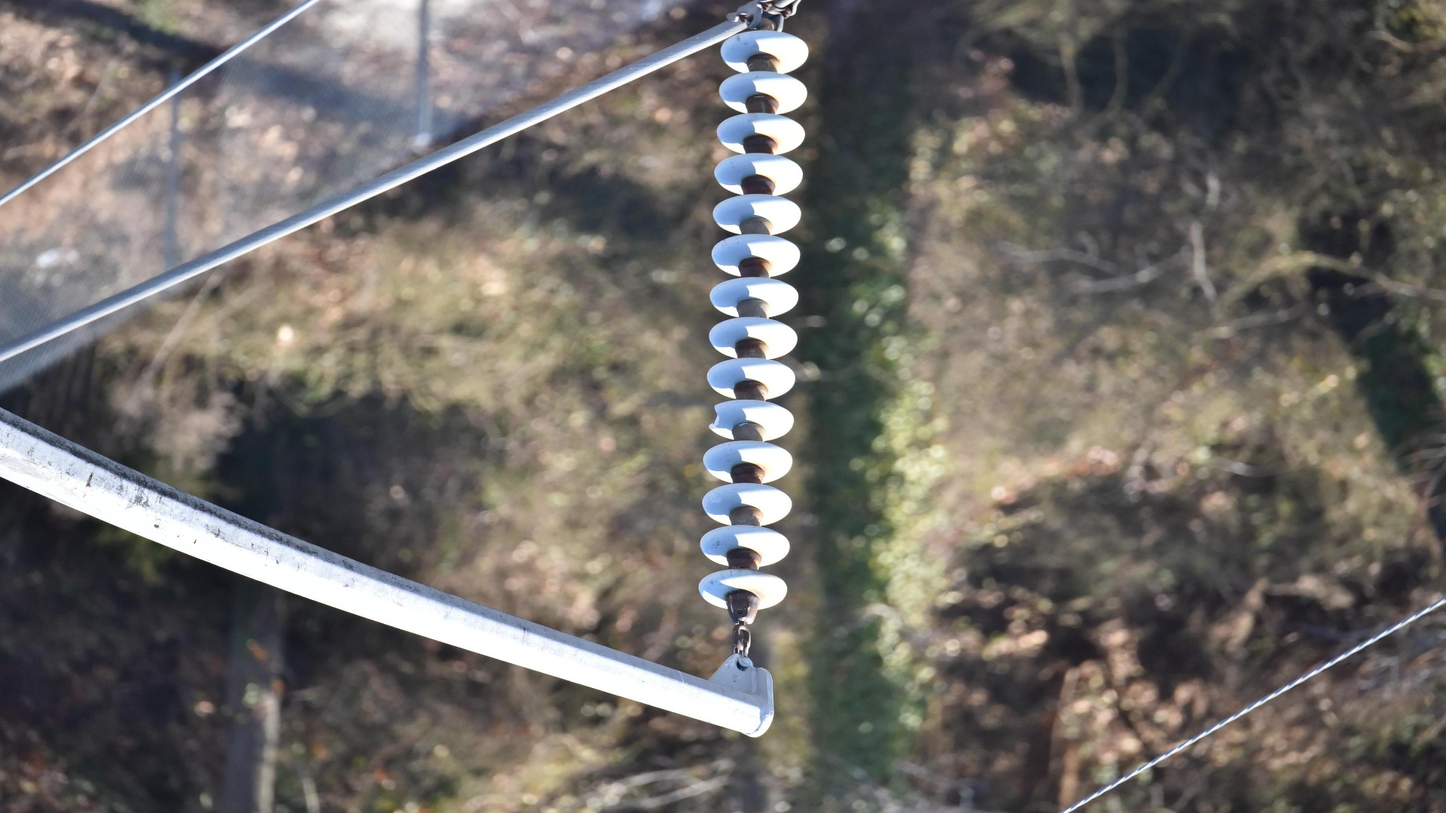insulator: (694, 28, 813, 618)
insulator_breakage: (707, 400, 726, 434)
